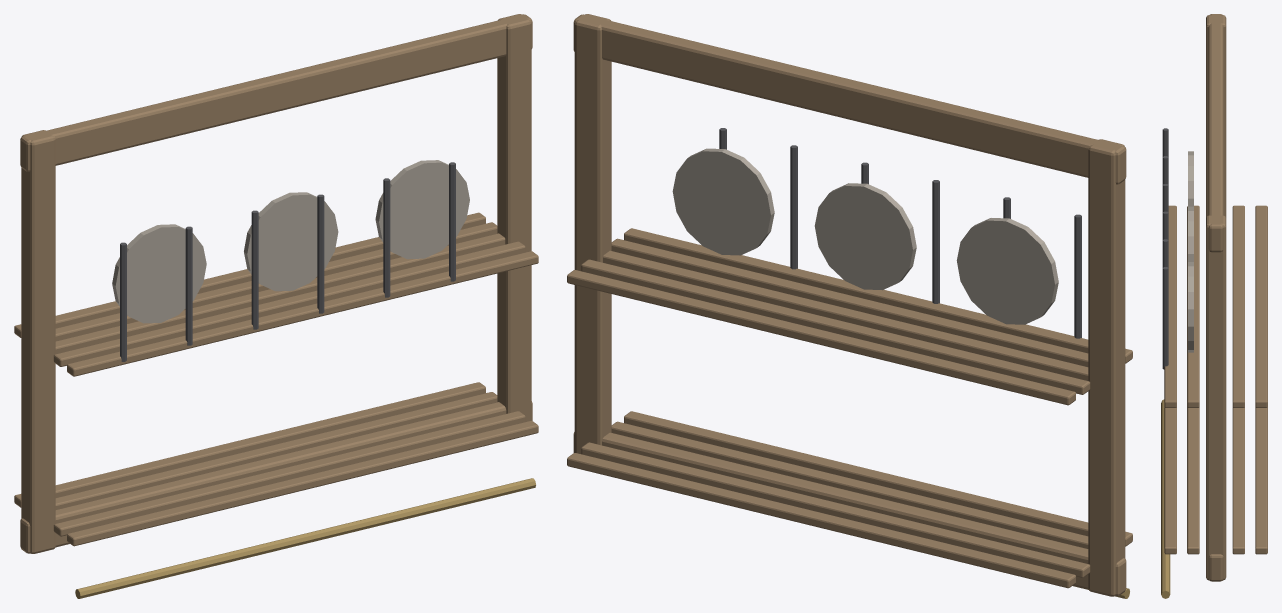
The picture shows the model from 3 angles, left to right: view 1: azimuth 30°, elevation 25°; view 2: azimuth 150°, elevation 25°; view 3: azimuth 270°, elevation 25°; orthographic projection. The views are drawn at different scales.
Parts seen in each view (by area): view 1: sculleryRack; view 2: sculleryRack; view 3: sculleryRack.
Boxes of the visible parts, box(x1,y1,x2,y2) form: sculleryRack: box(14, 14, 538, 598); sculleryRack: box(567, 14, 1132, 598); sculleryRack: box(1161, 14, 1267, 598).
Bounding box in the file's own units: 1 × 0.839 × 0.2115.
